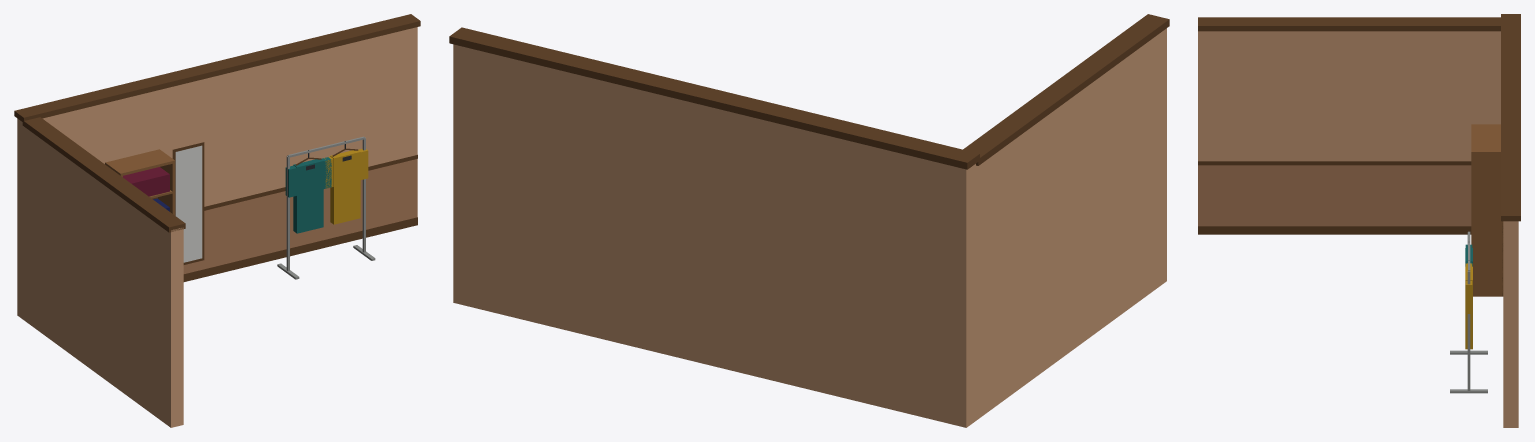
Rendered from bld_tailor-corner.8ffb55f33c8d.glb.
The picture shows the model from 3 angles, left to right: view 1: azimuth 30°, elevation 25°; view 2: azimuth 150°, elevation 25°; view 3: azimuth 270°, elevation 25°; orthographic projection. The views are drawn at different scales.
Parts seen in each view (by area): view 1: body; view 2: body; view 3: body.
Part boxes in pixels (x1,y1,x2,y2): body: (14, 14, 420, 427); body: (449, 14, 1169, 427); body: (1198, 14, 1520, 427).
Bounding box in the file's own units: 6.26 × 3.08 × 4.23.
